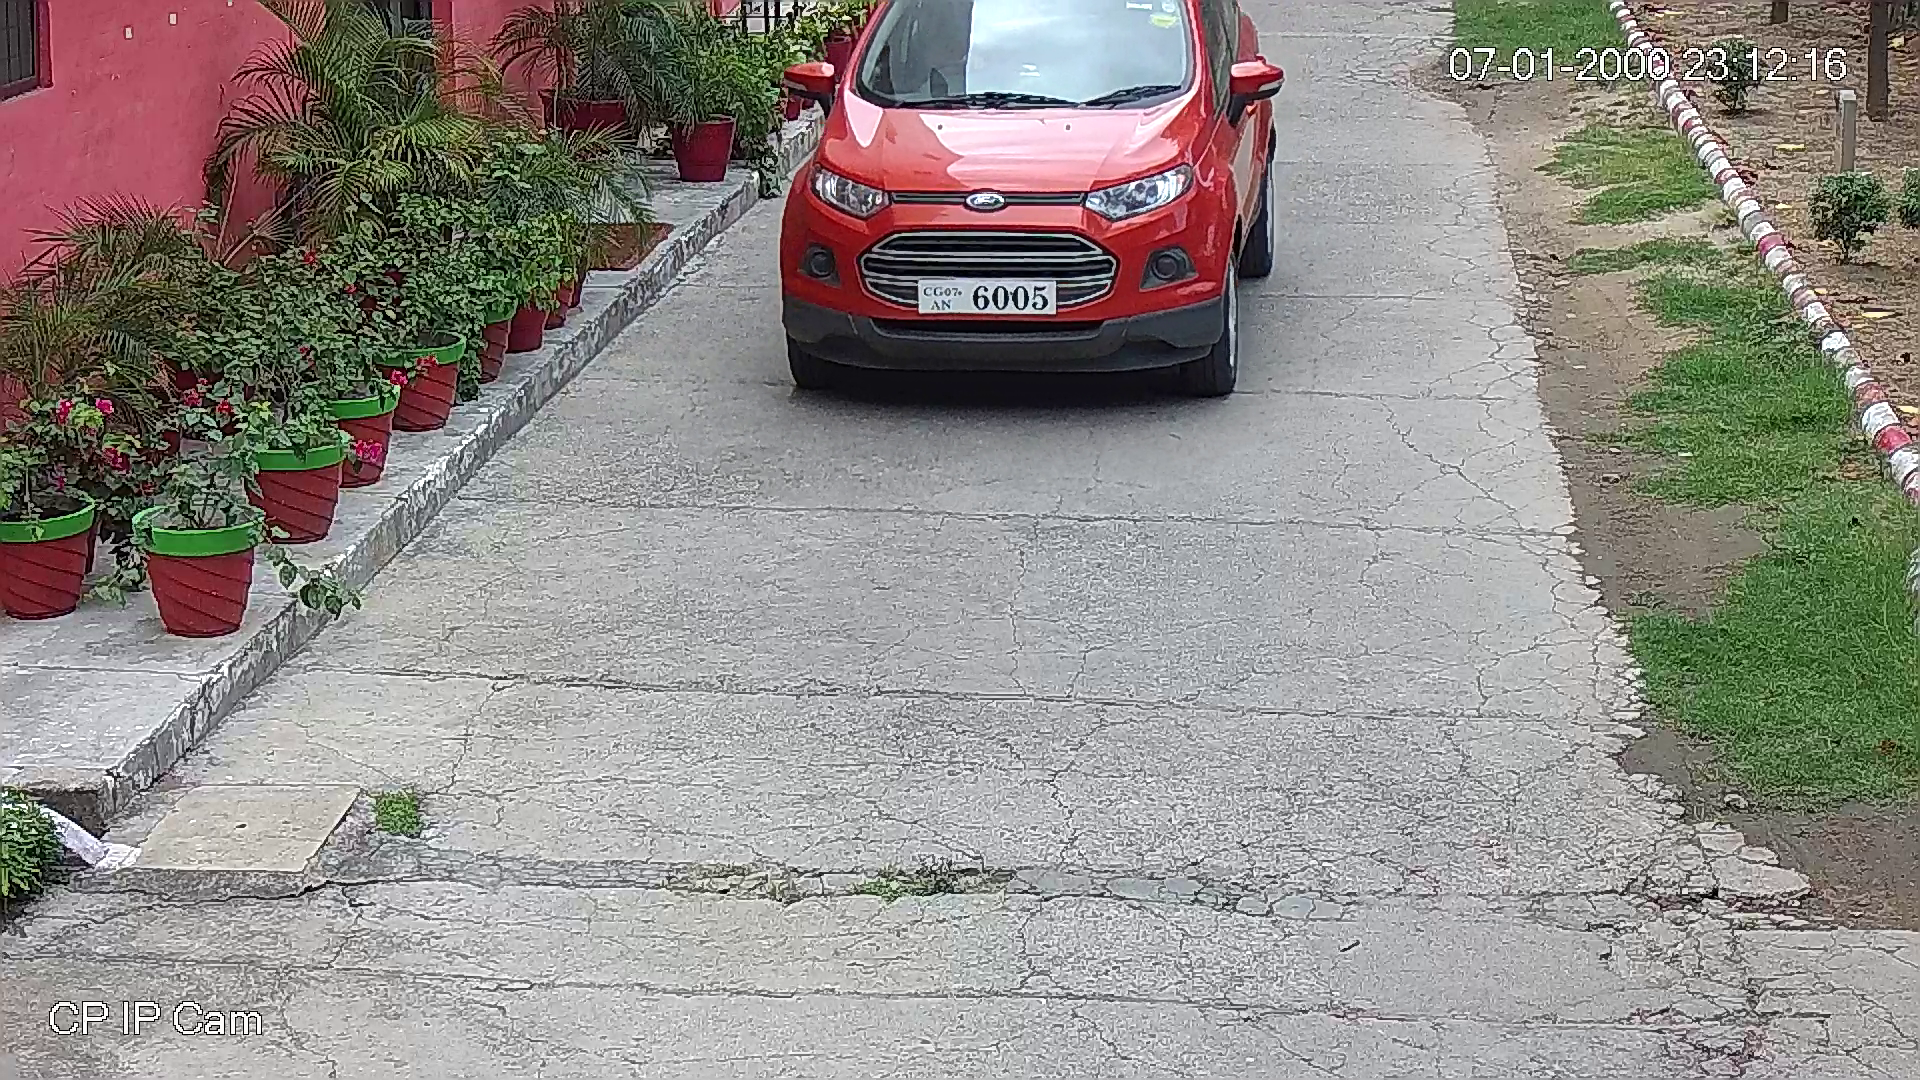plate: (919, 278, 1057, 312)
